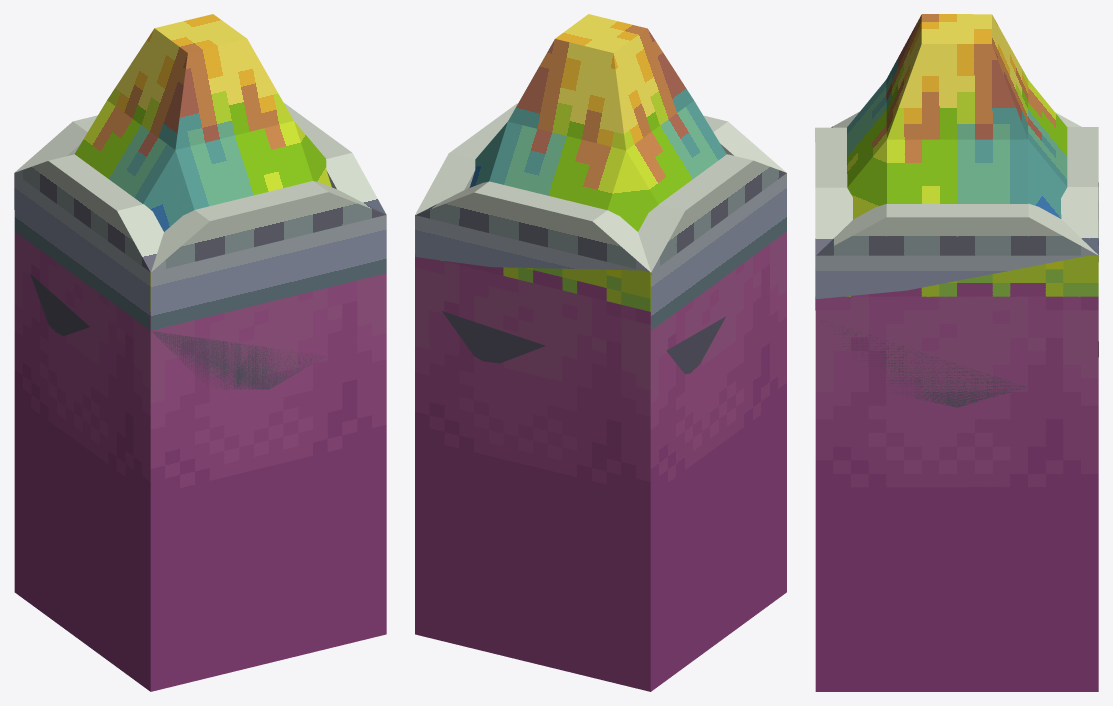
The model's file is Terrain_Models_Atlas.glb.
3 renders of one model, left to right at view 1: azimuth 30°, elevation 25°; view 2: azimuth 150°, elevation 25°; view 3: azimuth 270°, elevation 25°, orthographic. The views are drawn at different scales.
Parts seen in each view (by area): view 1: Plains, Mountains, Bridge_Horizontal, Bridge_Vertical; view 2: Plains, Mountains, Bridge_Vertical, Bridge_Horizontal; view 3: Plains, Mountains, Bridge_Vertical, Bridge_Horizontal.
Part boxes in pixels (<box>): Plains: <box>14,231,386,691</box>; Mountains: <box>14,14,386,690</box>; Bridge_Horizontal: <box>15,115,386,336</box>; Bridge_Vertical: <box>14,103,386,389</box>; Plains: <box>415,216,786,691</box>; Mountains: <box>415,14,786,691</box>; Bridge_Vertical: <box>415,103,786,363</box>; Bridge_Horizontal: <box>415,115,786,374</box>; Plains: <box>815,255,1098,691</box>; Mountains: <box>815,14,1098,691</box>; Bridge_Vertical: <box>816,112,1098,356</box>; Bridge_Horizontal: <box>815,127,1098,407</box>.
Bounding box in the file's own units: 2 × 4.7 × 2.
Materials: 14 (14 with a texture image).
